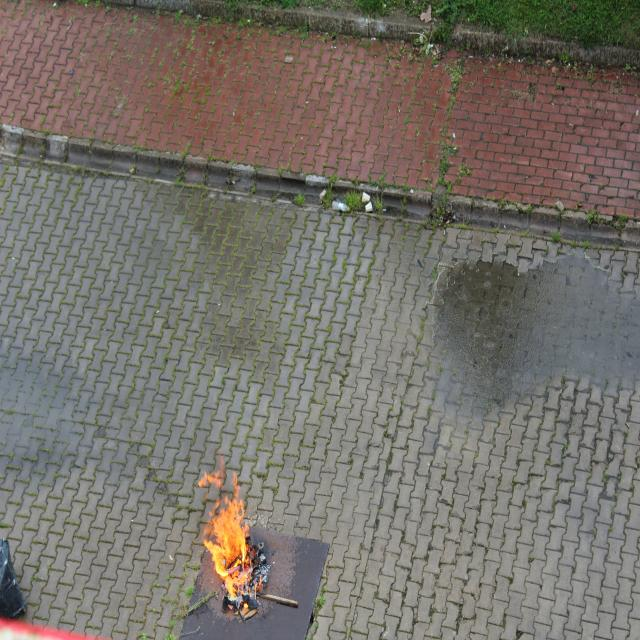fire: (196, 452, 276, 617)
